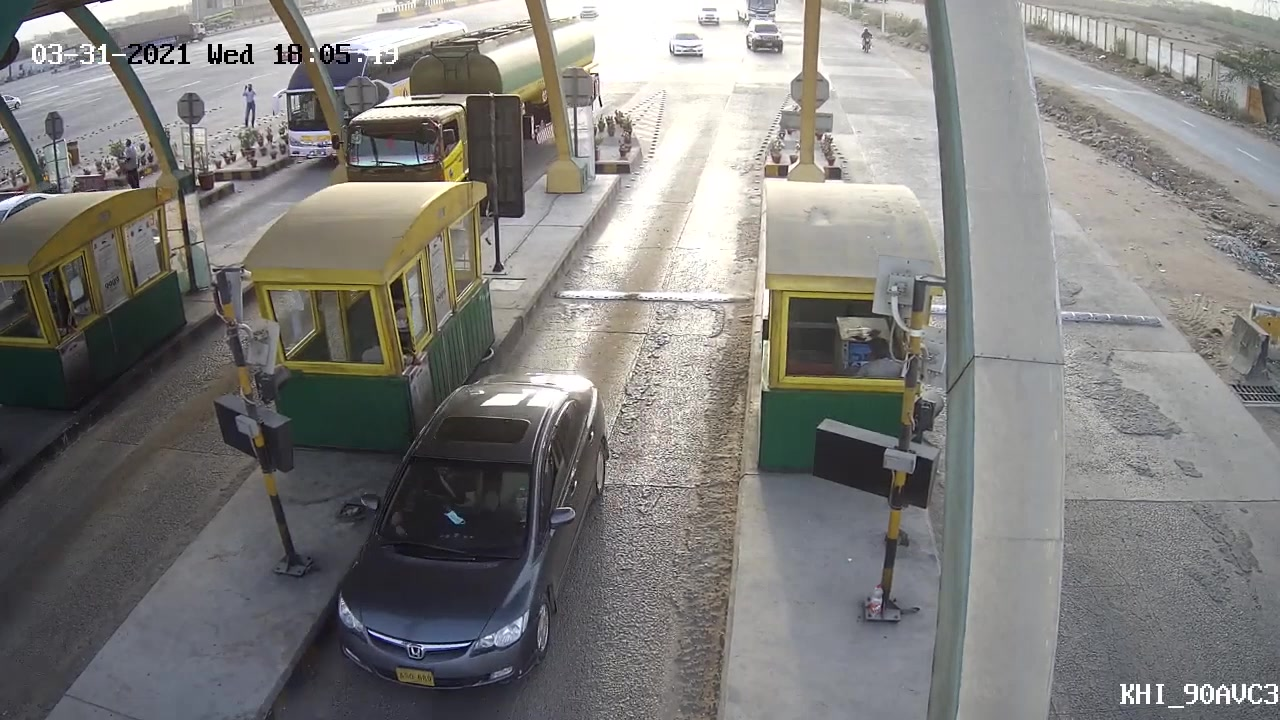F1: (325, 363, 615, 703)
